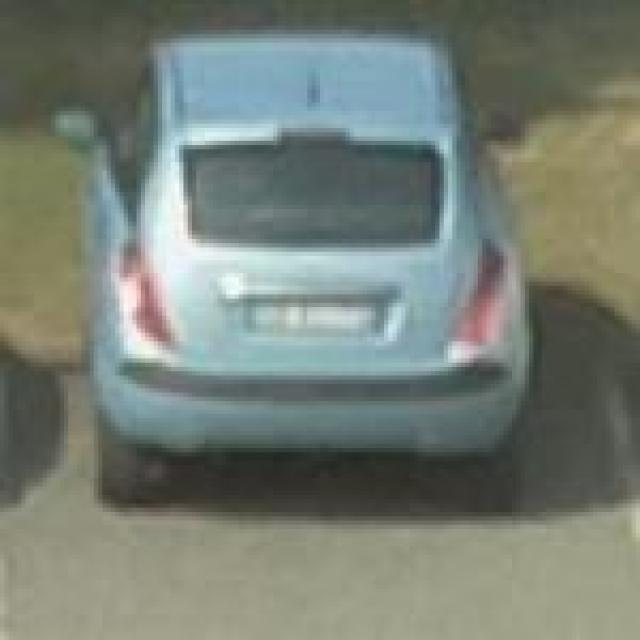cars-sUYr: (35, 11, 568, 526)
